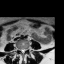CCS_normal: (22, 46, 23, 56)
LFS_stenosis: (25, 45, 27, 52)
LLS_normal: (23, 46, 25, 54)
RFS_normal: (18, 46, 20, 52)
RLS_normal: (20, 46, 22, 54)
